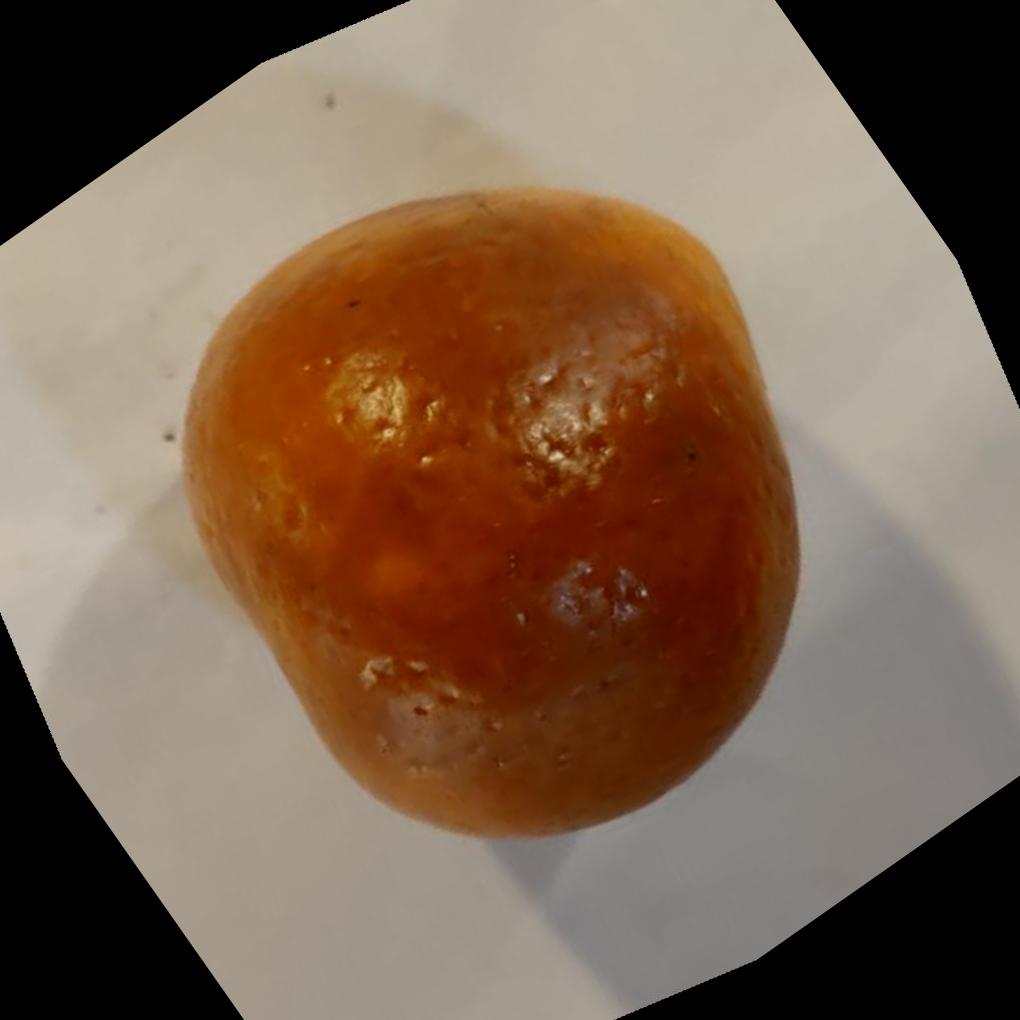FreshOrange: (179, 182, 805, 839)
